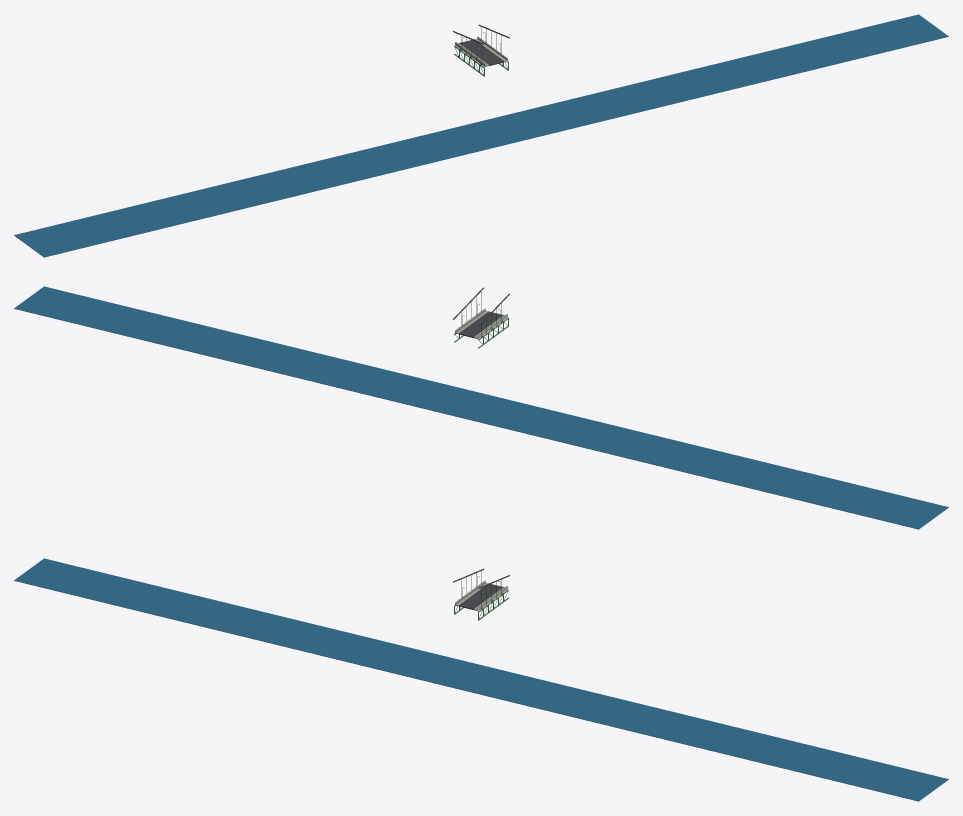
The model's file is puente_amb_3.glb.
The picture shows the model from 3 angles, top to bottom: view 1: azimuth 30°, elevation 25°; view 2: azimuth 150°, elevation 25°; view 3: azimuth 330°, elevation 25°; orthographic projection.
Parts seen in each view (by area): view 1: puente_amb_3; view 2: puente_amb_3; view 3: puente_amb_3.
Boxes of the visible parts, <box> form: puente_amb_3: <box>14,14,948,257</box>; puente_amb_3: <box>14,286,948,529</box>; puente_amb_3: <box>14,558,948,801</box>.
Bounding box in the file's own units: 520 × 58.57 × 30.23.
Materials: 1 (1 with a texture image).
